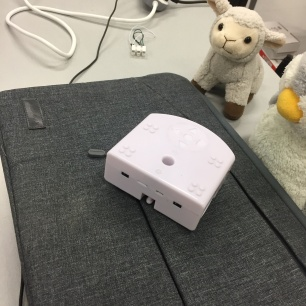thymio: (95, 112, 241, 233)
